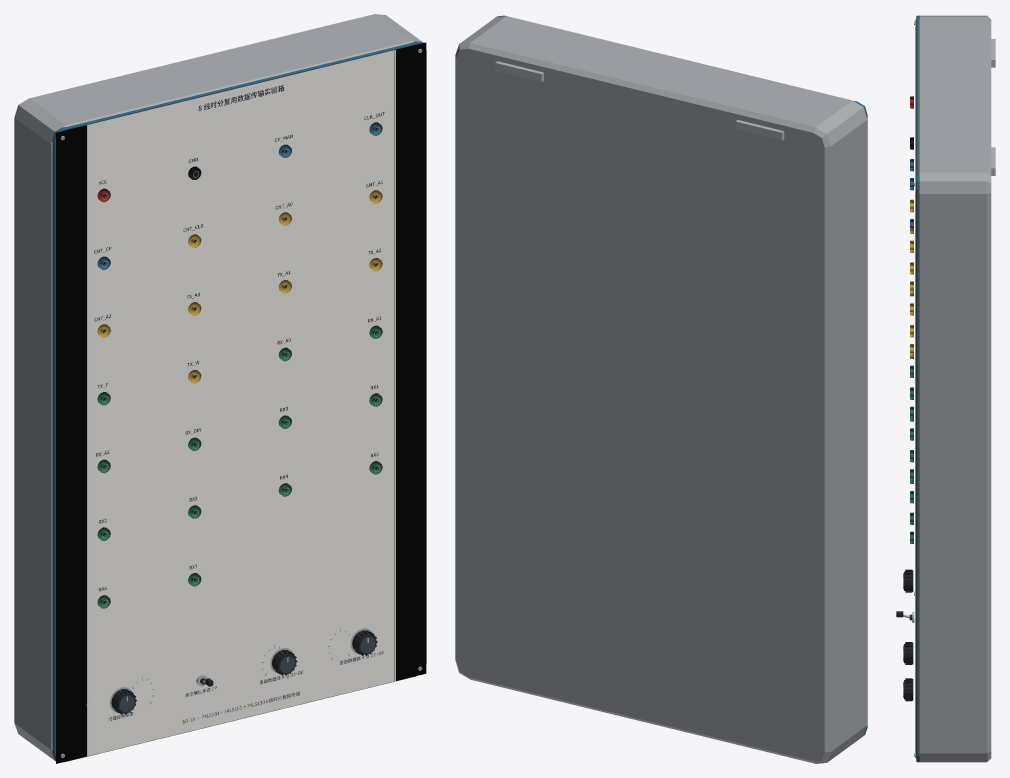
Rendered from module.glb.
The picture shows the model from 3 angles, left to right: view 1: azimuth 30°, elevation 25°; view 2: azimuth 150°, elevation 25°; view 3: azimuth 270°, elevation 25°; orthographic projection. The views are drawn at different scales.
Parts seen in each view (by area): view 1: PANEL_silkscreen, STATIC_paint, STATIC_metal; view 2: STATIC_paint, STATIC_metal; view 3: STATIC_paint, STATIC_metal, MOVING_CLK_RATE_paint, MOVING_TX_HIGH_paint, MOVING_TX_LOW_paint.
Part boxes in pixels (left/top/right/bottom): PANEL_silkscreen: left=56, top=42, right=426, bottom=763; STATIC_paint: left=14, top=14, right=426, bottom=762; STATIC_metal: left=60, top=48, right=422, bottom=757; STATIC_paint: left=455, top=15, right=867, bottom=763; STATIC_metal: left=495, top=61, right=784, bottom=140; STATIC_paint: left=910, top=15, right=991, bottom=762; STATIC_metal: left=912, top=21, right=995, bottom=756; MOVING_CLK_RATE_paint: left=903, top=569, right=913, bottom=592; MOVING_TX_HIGH_paint: left=903, top=678, right=913, bottom=701; MOVING_TX_LOW_paint: left=903, top=642, right=913, bottom=664.
Bounding box in the file's own units: 0.29 × 0.47 × 0.0718.
7 materials, 1 textured.
